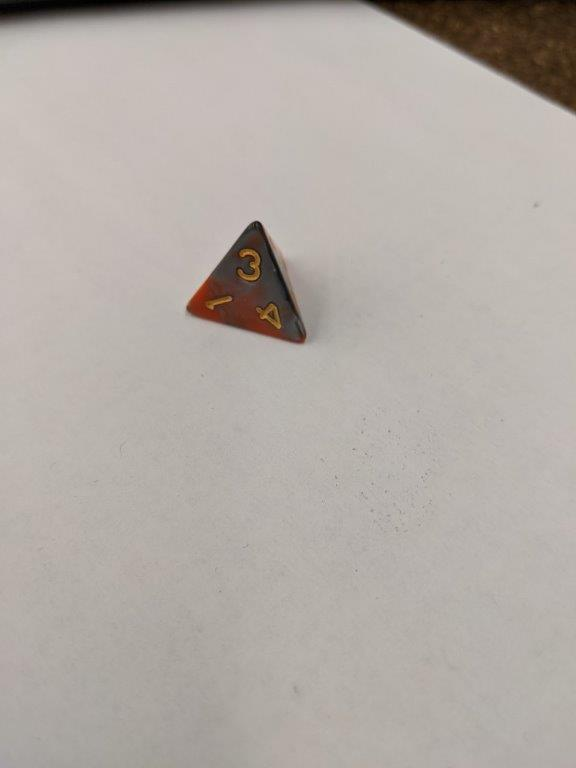d4-3: (182, 219, 311, 353)
